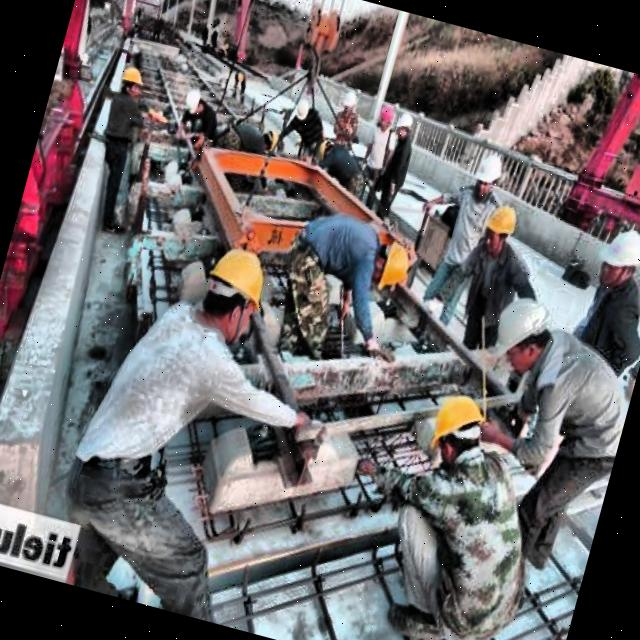helmet: (190, 235, 278, 350), (484, 287, 563, 382), (424, 387, 493, 470), (359, 229, 420, 296), (593, 222, 640, 297), (474, 198, 521, 266), (469, 147, 508, 200), (284, 86, 318, 130), (115, 59, 147, 102), (178, 87, 210, 120), (253, 122, 282, 156), (392, 108, 418, 144), (311, 134, 341, 162), (338, 84, 359, 117)
